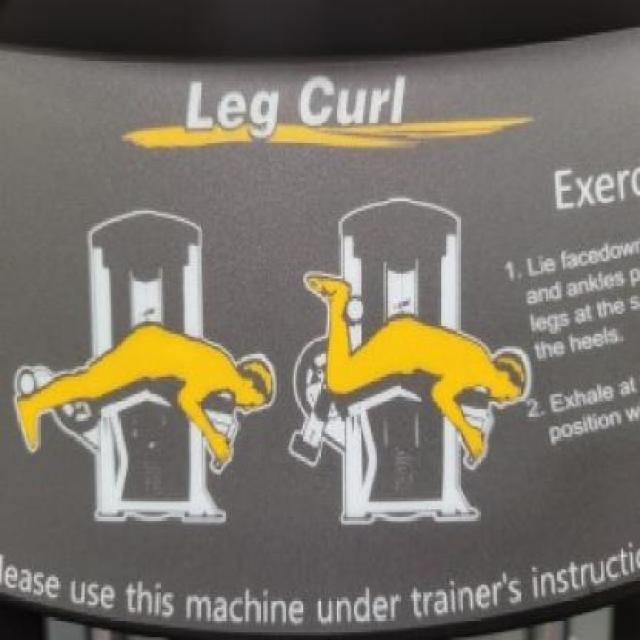reg curl machine: (9, 205, 286, 543), (286, 191, 536, 534)
